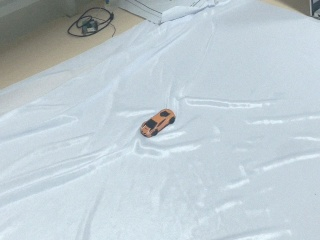toy_car: (139, 108, 176, 138)
